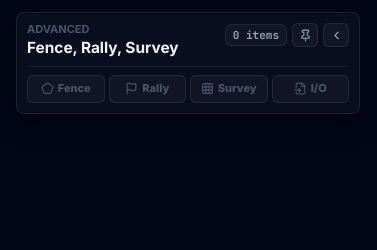
Test: AdvancedMissionPanel › toggles advanced mode tabs on and off
Click the tab "Fence".
click(66, 89)  # box [27,75,104,103]
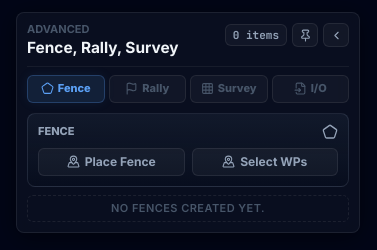
Expected: the text "Place Fence" is shown, [85,156,156,168]
Click the tab "Fence".
click(66, 89)  # box [27,75,104,103]
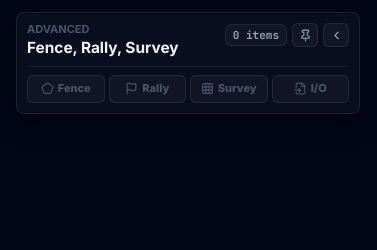
Expected: the text "Place Fence" is gone
